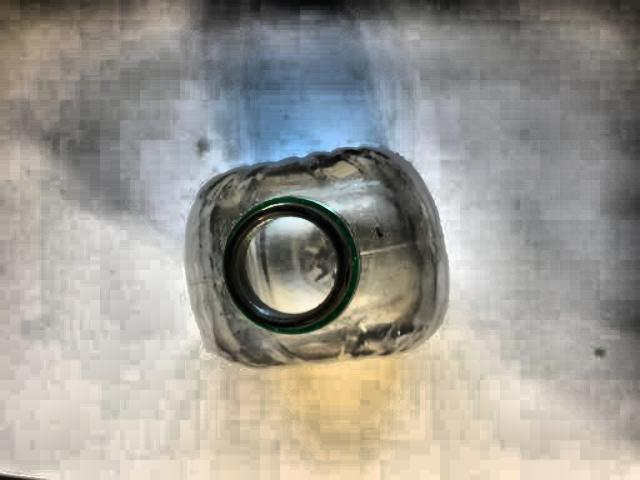Bottles: (143, 130, 476, 384)
